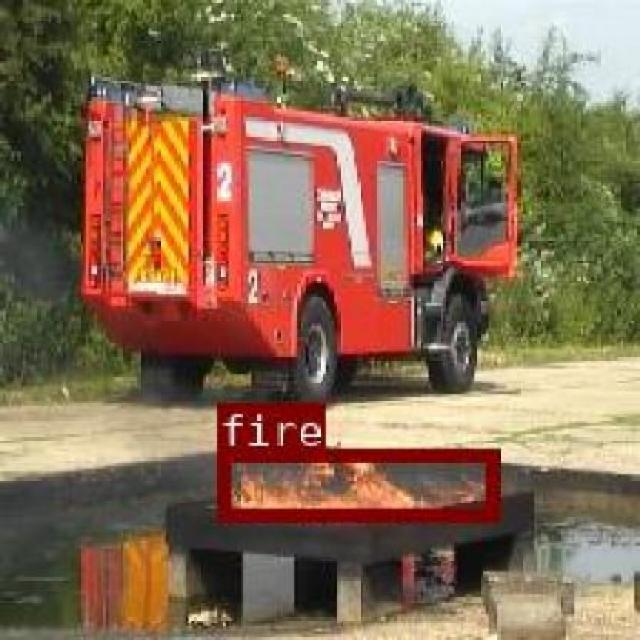Fire: (214, 446, 496, 520)
